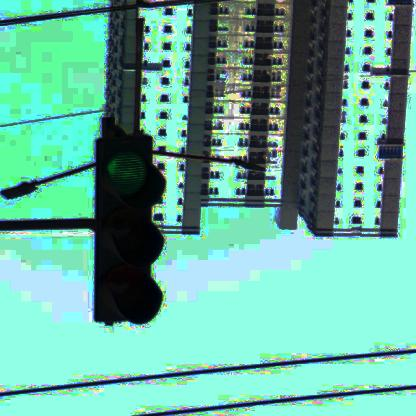Traffic Light -Green-: (93, 137, 164, 323)
